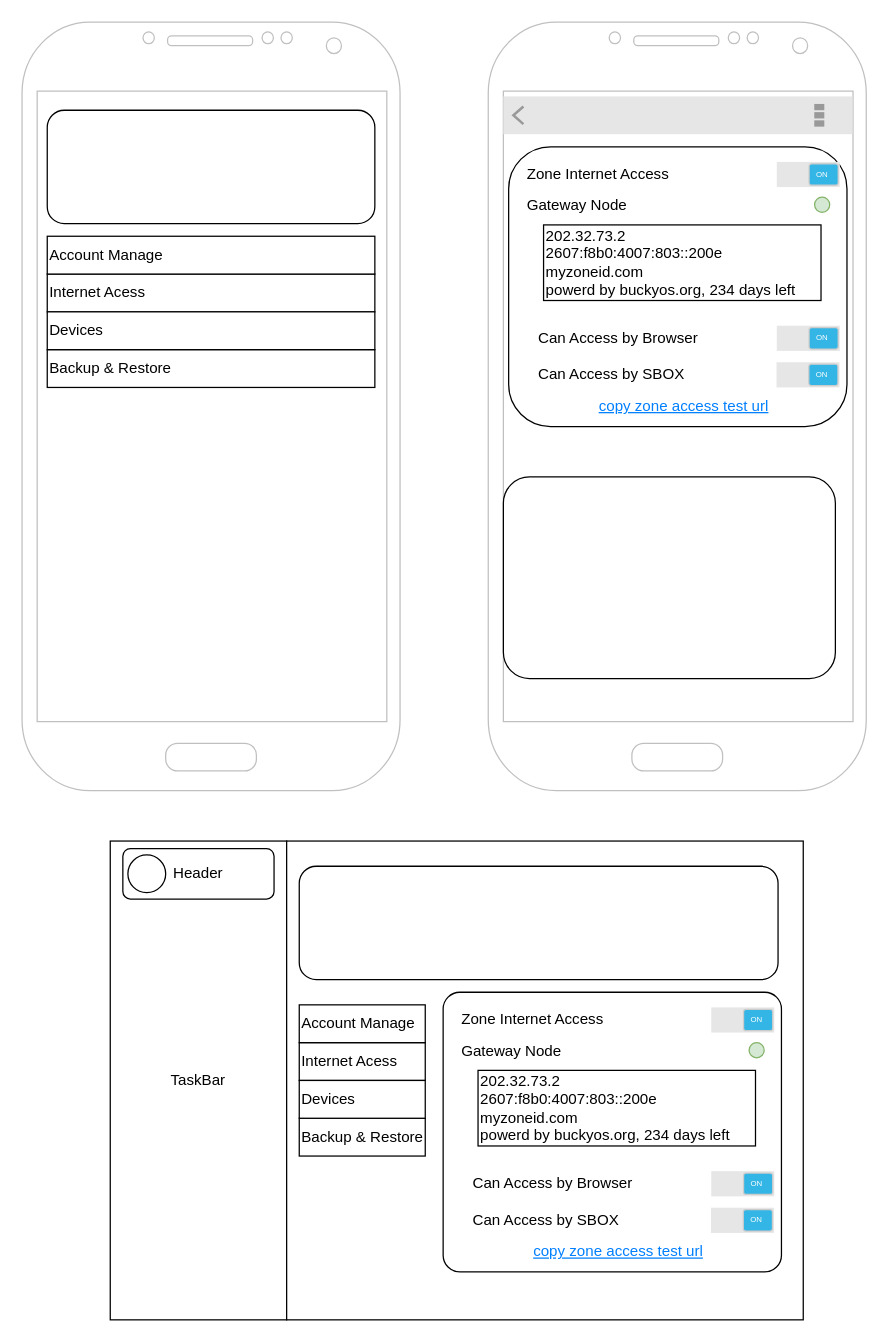
This 888x1342 diagram has some shape labels left out. Each missing label, with the centre of its shape:
Internet Access: (677,114)
OOD Network Info: (668,577)
